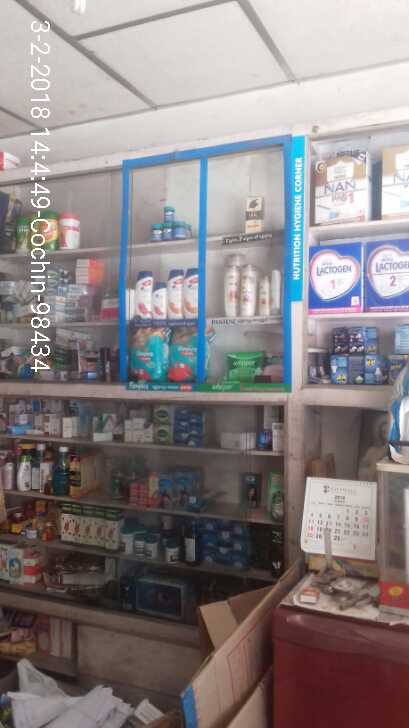vicks: (144, 205, 193, 246)
